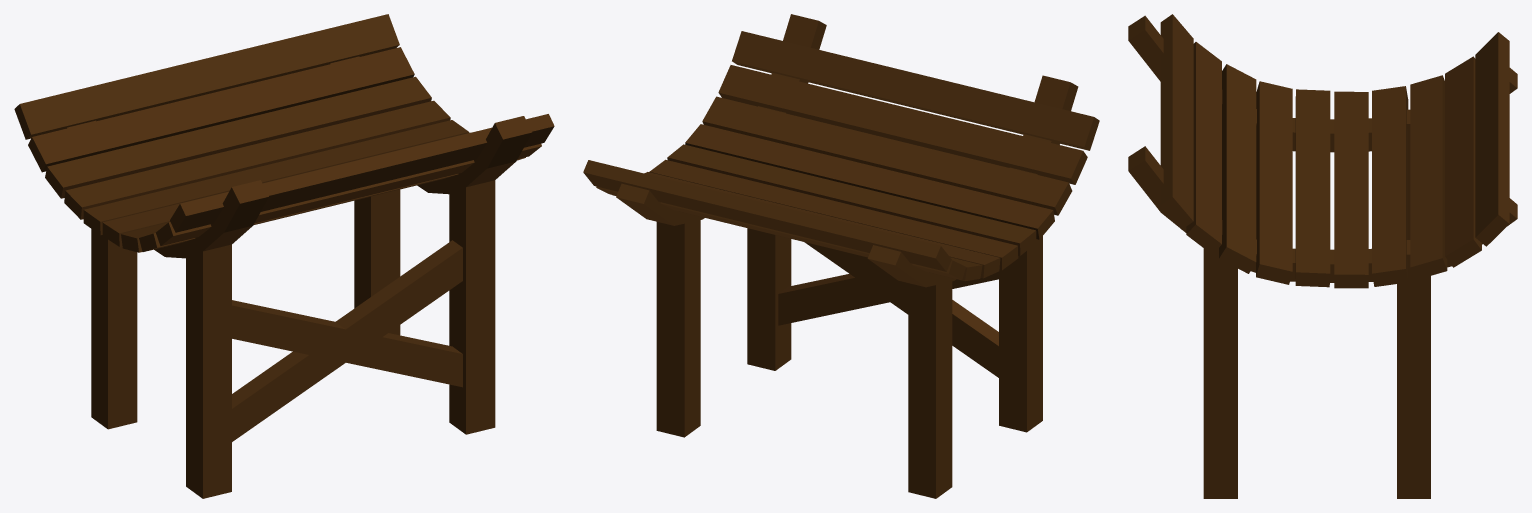
The model's file is ramp.fbx.
3 views of the same model, side by side, from view 1: azimuth 30°, elevation 25°; view 2: azimuth 150°, elevation 25°; view 3: azimuth 270°, elevation 25° (orthographic). The views are drawn at different scales.
Parts seen in each view (by area): view 1: ramp; view 2: ramp; view 3: ramp.
Part boxes in pixels (<box>): ramp: <box>14,14,554,498</box>; ramp: <box>583,14,1099,498</box>; ramp: <box>1128,14,1517,498</box>.
Size of the model in its own units: 2.24 by 1.93 by 2.02.
